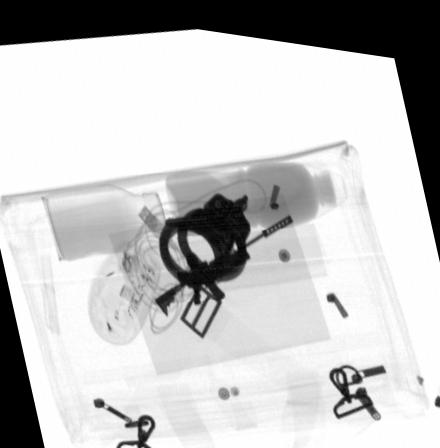Gun: (151, 204, 293, 313)
HandCuffs: (156, 183, 249, 282)
